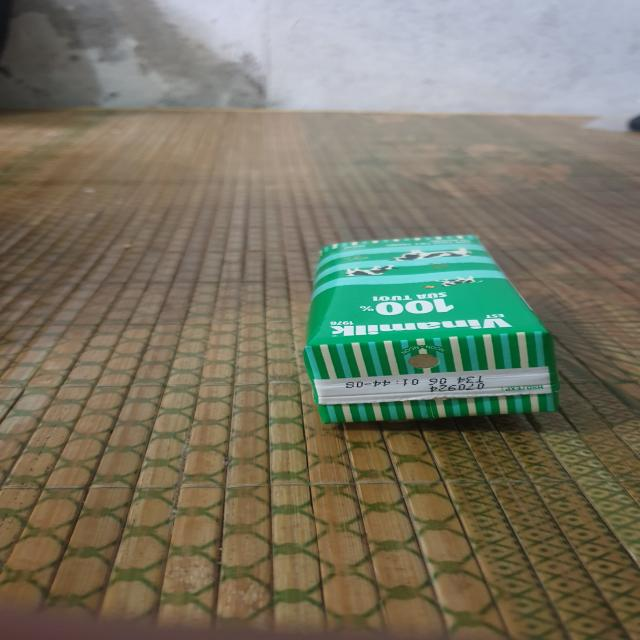Vina: (314, 235, 554, 427)
